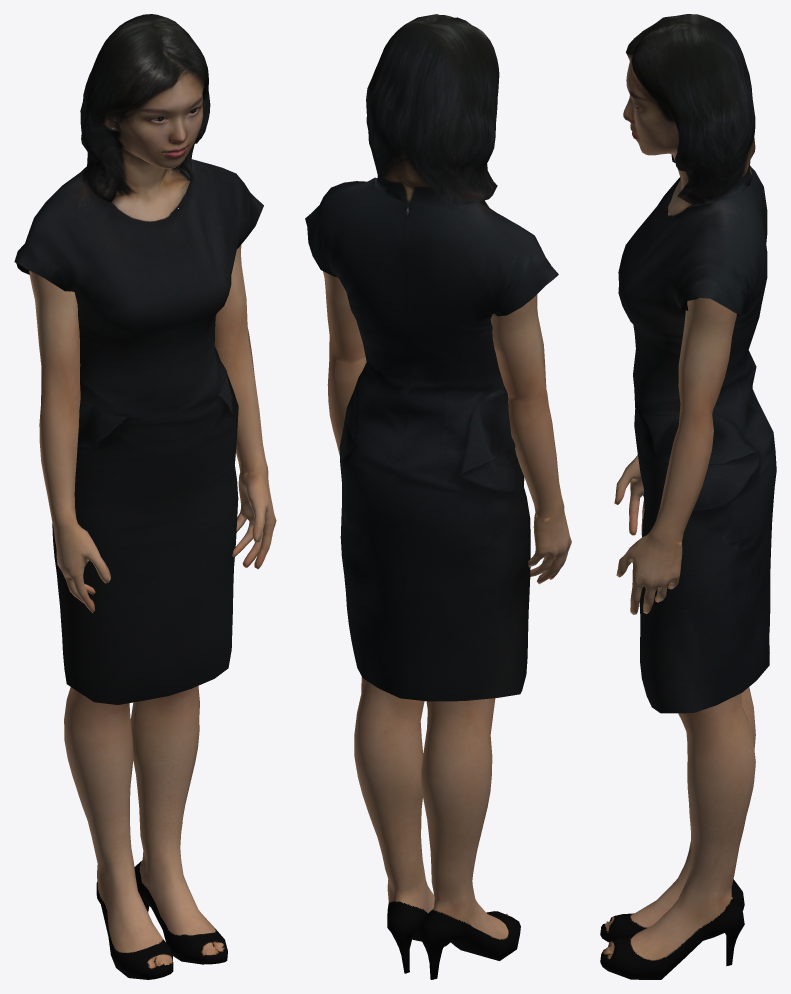
File: scene-processed.glb
The picture shows the model from 3 angles, left to right: view 1: azimuth 30°, elevation 25°; view 2: azimuth 150°, elevation 25°; view 3: azimuth 270°, elevation 25°; orthographic projection.
Bounding box in the file's own units: 19.29 × 69.54 × 11.85.
3 materials, 3 textured.
